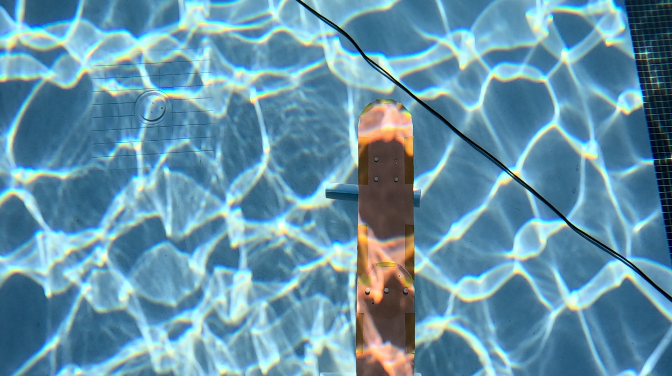pathmarker: (357, 98, 414, 375)
